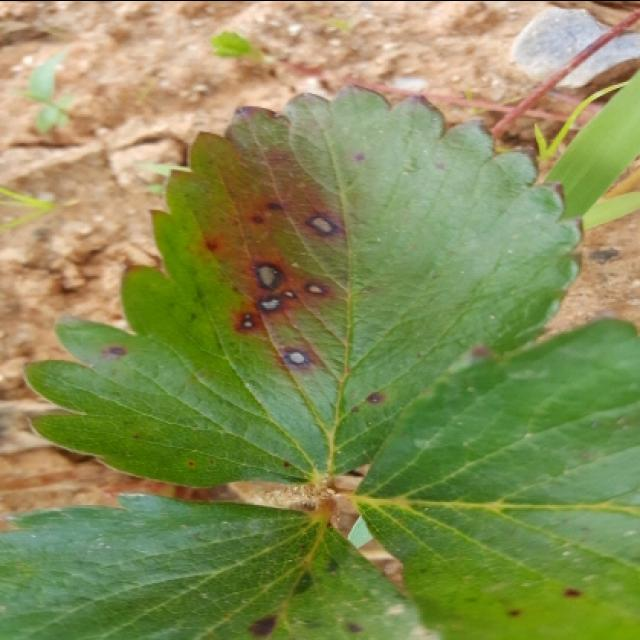Leaf Spot: (22, 82, 585, 488), (352, 317, 638, 640), (0, 489, 438, 640)
